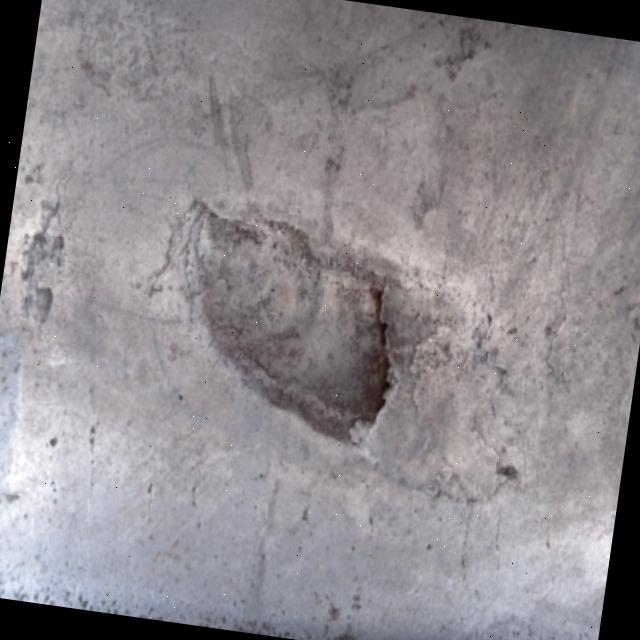Blue hole: (166, 200, 416, 454)
Peeling: (19, 196, 71, 336)
